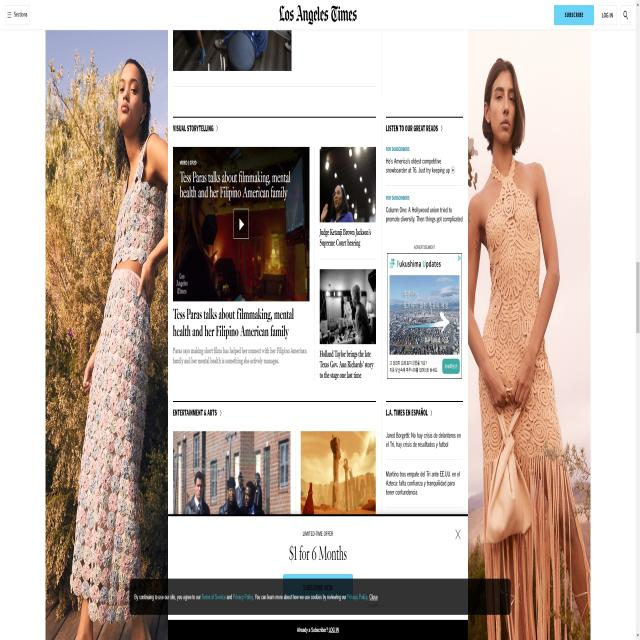menu-bar: (555, 4, 633, 25)
side-panel: (380, 111, 464, 512)
